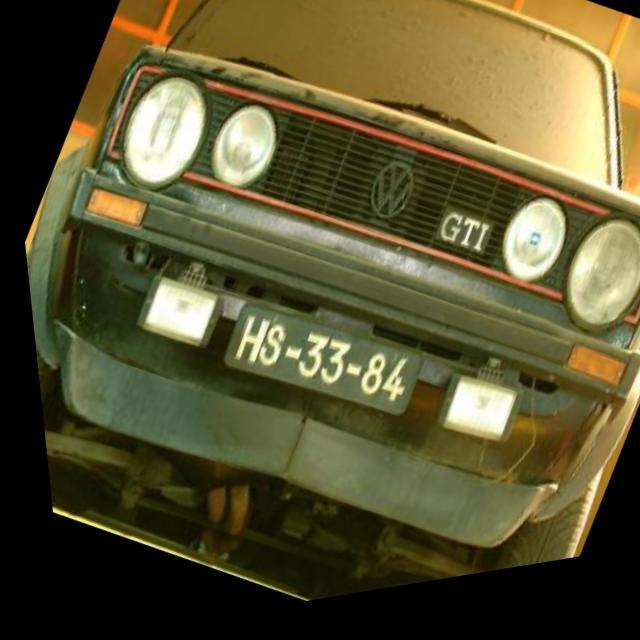license_plate: (204, 276, 423, 461)
